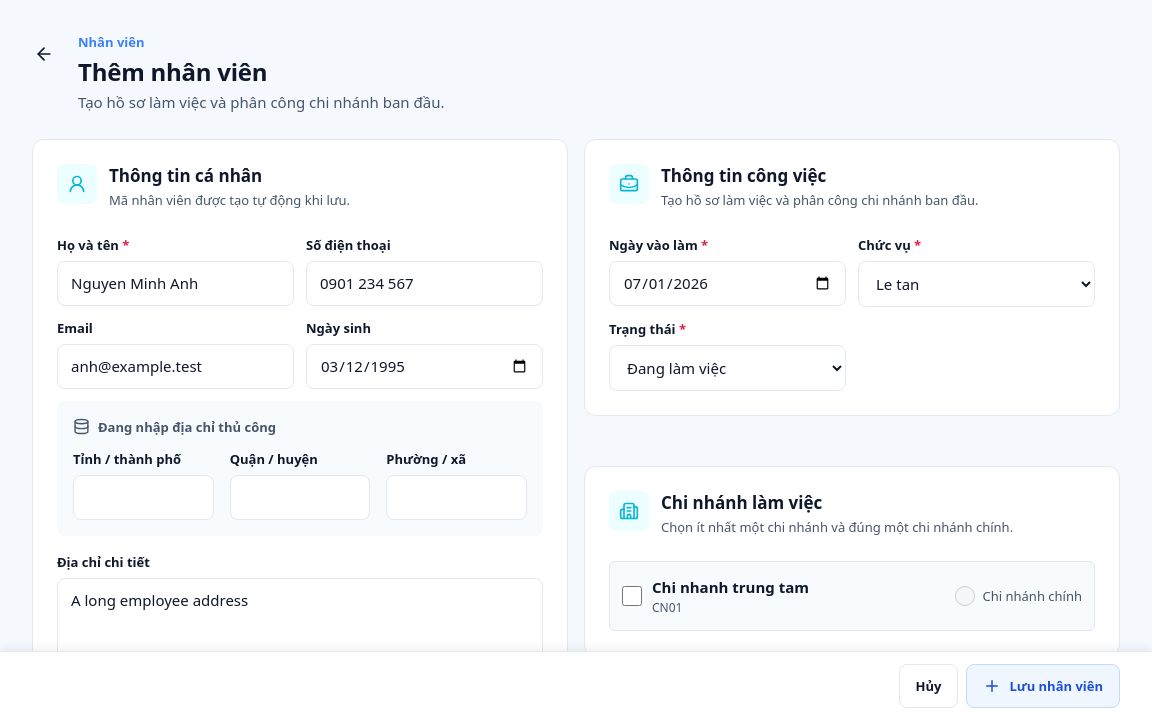
Test: employee pages › reports invalid form submission through a toast instead of a page banner
Click the button "Lưu nhân viên". click: (1043,686)
box: [966,664,1120,708]
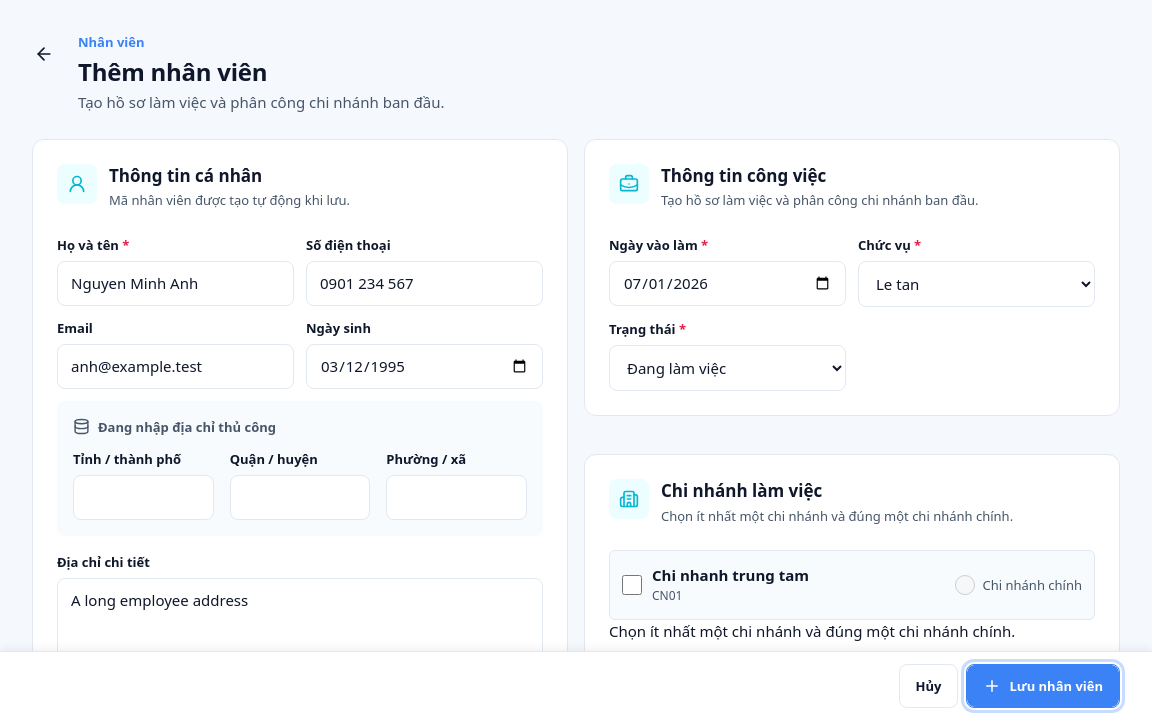
Expected: the message reads "Chọn ít nhất một chi nhánh và đúng một chi nhánh chính.", [609,621,1015,641]
